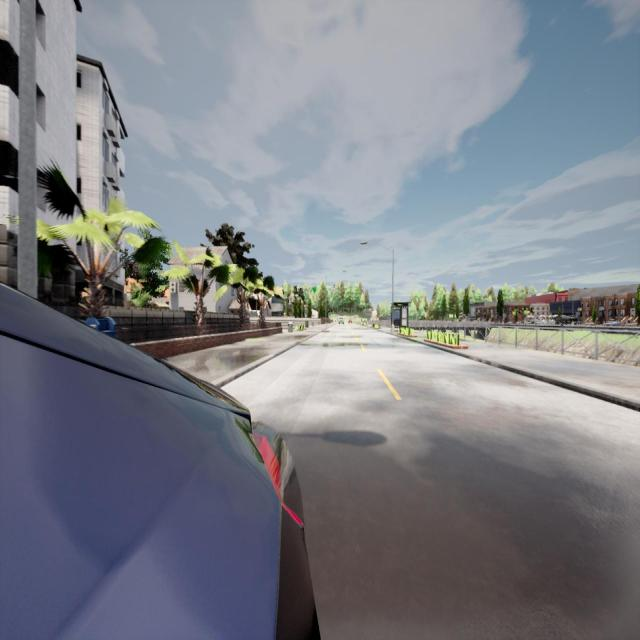Vehicle: (0, 294, 320, 638), (338, 316, 344, 325), (348, 319, 353, 325)
